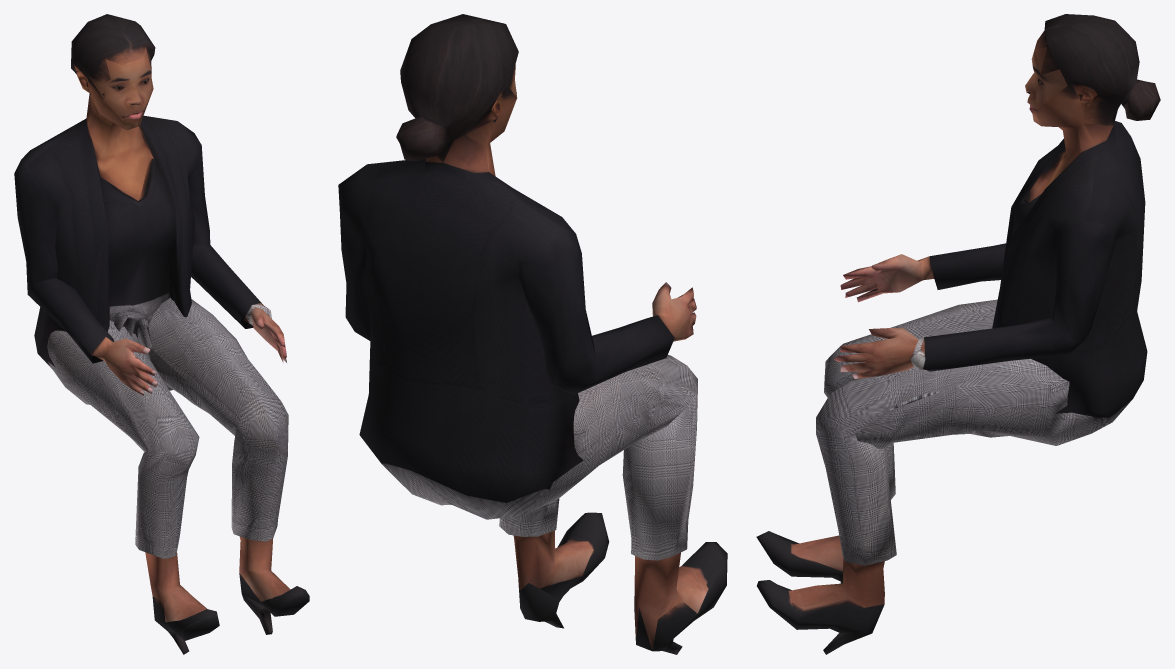
File: CarlaNear.fbx
3 renders of one model, left to right at view 1: azimuth 30°, elevation 25°; view 2: azimuth 150°, elevation 25°; view 3: azimuth 270°, elevation 25°, orthographic. The views are drawn at different scales.
Visible parts, largest first — view 1: rp_carla_rigged_001_geo.001; view 2: rp_carla_rigged_001_geo.001; view 3: rp_carla_rigged_001_geo.001.
Part boxes in pixels (x1=…): rp_carla_rigged_001_geo.001: x1=14, y1=14, x2=309, y2=654; rp_carla_rigged_001_geo.001: x1=338, y1=14, x2=727, y2=654; rp_carla_rigged_001_geo.001: x1=756, y1=14, x2=1160, y2=654.
Size of the model in its own units: 45.24 by 129 by 77.06.
1 material, 1 textured.
